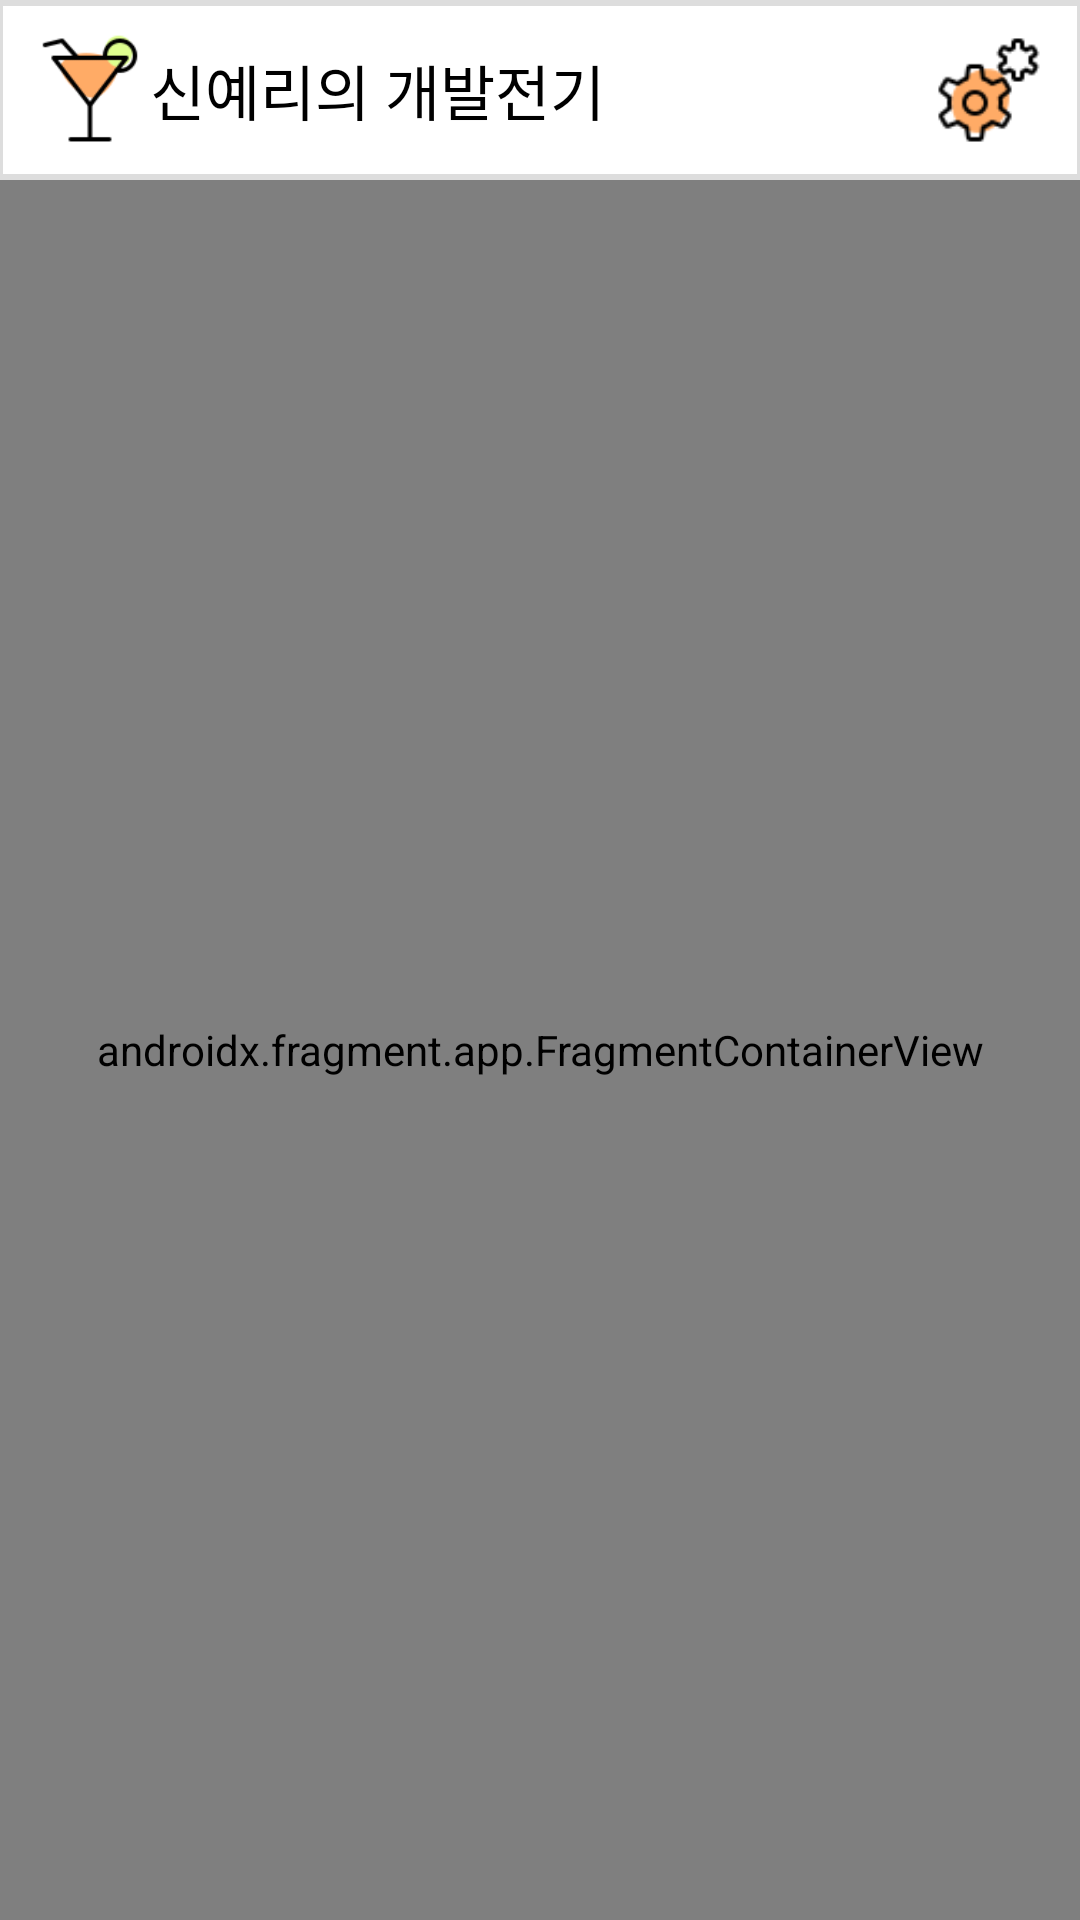

Where icons sit on this 1080x1920 app screen, as (x1, y1, x2, y2):
설정: (938, 38, 1040, 142)
